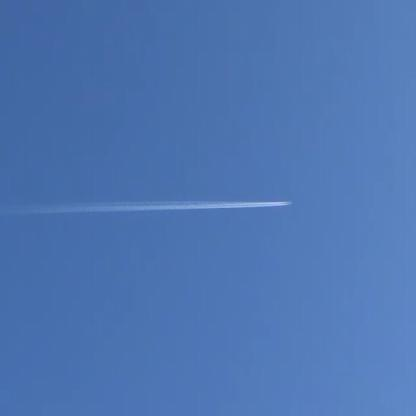CIV_Plane: (282, 195, 298, 211)
